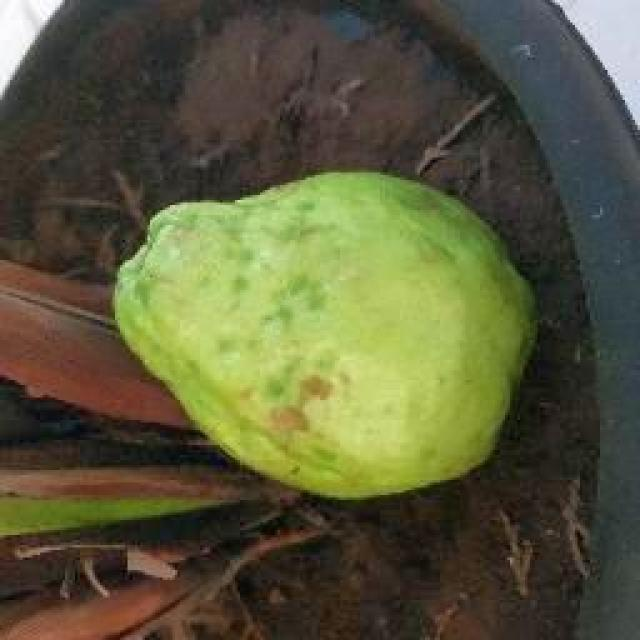Good_Guava: (112, 170, 538, 505)
